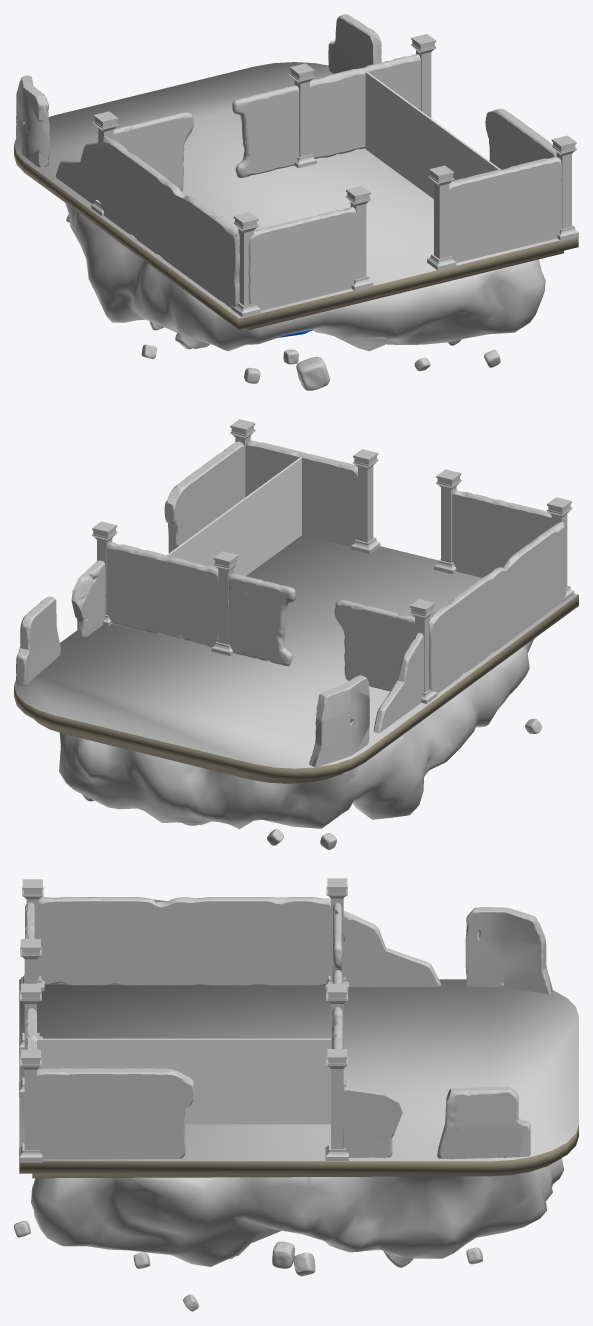
The picture shows the model from 3 angles, top to bottom: view 1: azimuth 30°, elevation 25°; view 2: azimuth 150°, elevation 25°; view 3: azimuth 270°, elevation 25°; orthographic projection. The views are drawn at different scales.
Parts seen in each view (by area): view 1: Cube.336_dmg; view 2: Cube.336_dmg; view 3: Cube.336_dmg.
Boxes of the visible parts, x1=… form: Cube.336_dmg: x1=14, y1=14, x2=578, y2=390; Cube.336_dmg: x1=14, y1=419, x2=578, y2=849; Cube.336_dmg: x1=14, y1=878, x2=578, y2=1311.
Size of the model in its own units: 2543 by 1757 by 3067.
